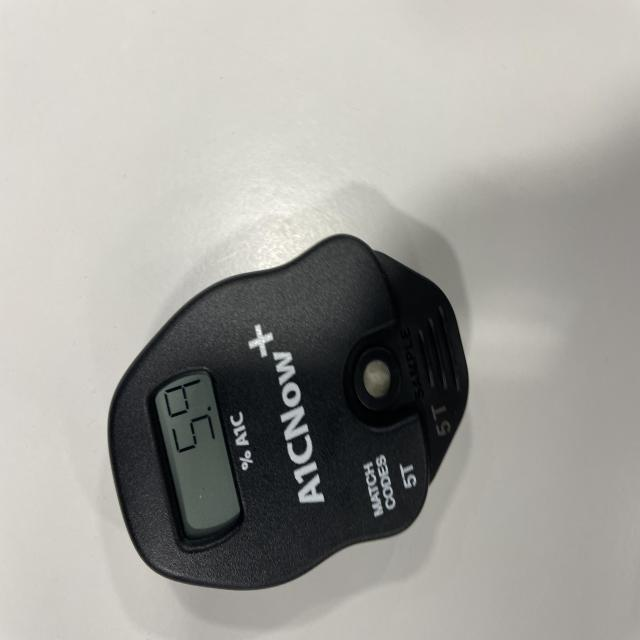hba1c: (107, 235, 470, 596)
